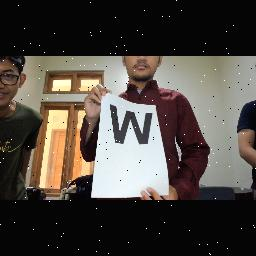w: (106, 100, 154, 148)
